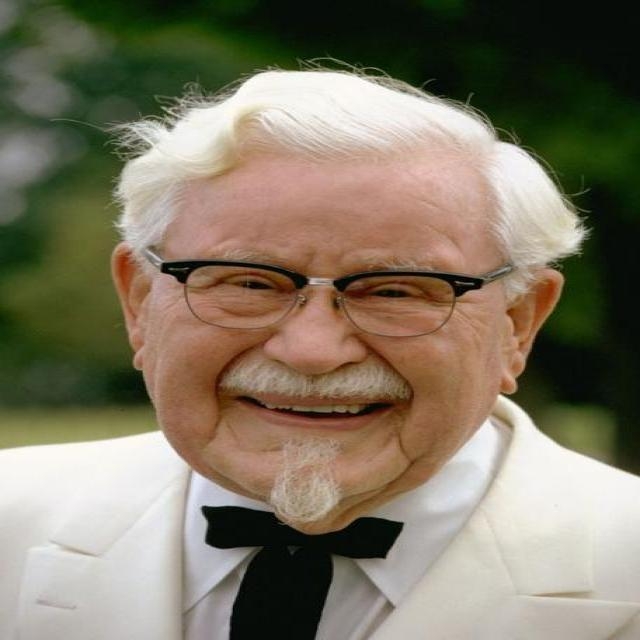glasses: (140, 248, 514, 338)
